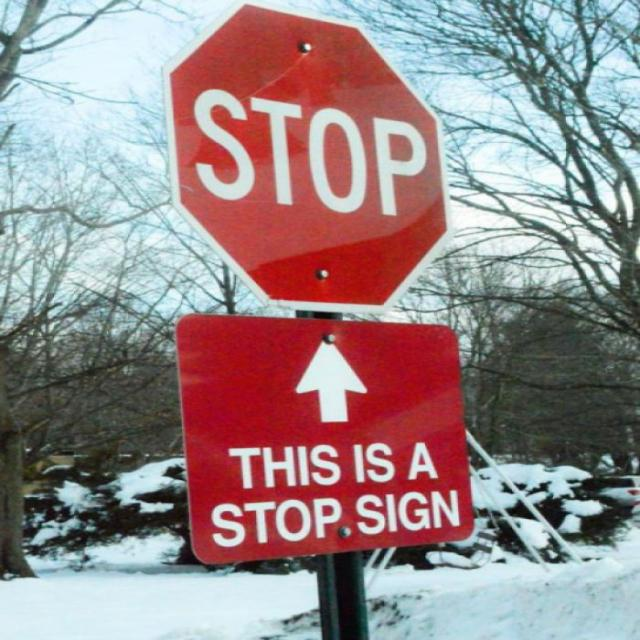stop: (172, 7, 443, 304)
